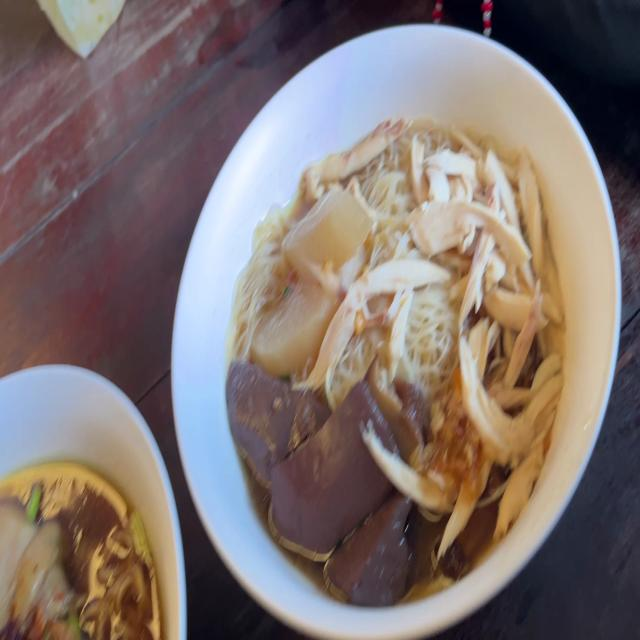noodle: (224, 112, 568, 606), (0, 444, 168, 640)
